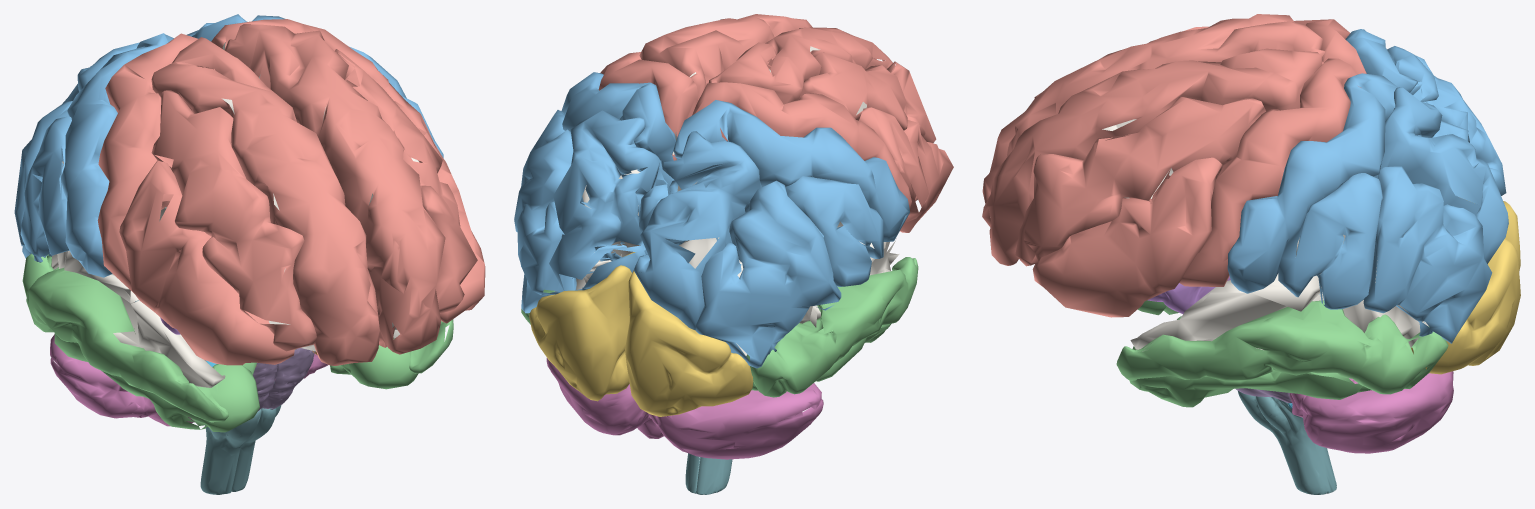
Rendered from brain-bp3d.glb.
3 views of the same model, side by side, from view 1: azimuth 30°, elevation 25°; view 2: azimuth 150°, elevation 25°; view 3: azimuth 270°, elevation 25° (orthographic). The views are drawn at different scales.
Parts seen in each view (by area): view 1: right_frontal_lobe, left_frontal_lobe, right_temporal_lobe, right_parietal_lobe, white_matter, cerebellum, medulla_oblongata, left_temporal_lobe, pons, left_parietal_lobe; view 2: right_parietal_lobe, left_parietal_lobe, right_frontal_lobe, cerebellum, right_occipital_lobe, right_temporal_lobe, left_frontal_lobe, left_occipital_lobe, white_matter, medulla_oblongata; view 3: left_frontal_lobe, left_parietal_lobe, left_temporal_lobe, right_frontal_lobe, cerebellum, white_matter, right_parietal_lobe, left_occipital_lobe, medulla_oblongata, left_insula.
Boxes of the visible parts, x1=… form: right_frontal_lobe: x1=97, y1=33, x2=379, y2=365; left_frontal_lobe: x1=211, y1=19, x2=485, y2=354; right_temporal_lobe: x1=22, y1=253, x2=259, y2=432; right_parietal_lobe: x1=14, y1=33, x2=173, y2=277; white_matter: x1=51, y1=42, x2=418, y2=387; cerebellum: x1=50, y1=334, x2=328, y2=426; medulla_oblongata: x1=200, y1=405, x2=281, y2=494; left_temporal_lobe: x1=330, y1=319, x2=453, y2=389; pons: x1=253, y1=348, x2=314, y2=411; left_parietal_lobe: x1=187, y1=14, x2=443, y2=157; right_parietal_lobe: x1=633, y1=100, x2=909, y2=368; left_parietal_lobe: x1=514, y1=72, x2=675, y2=313; right_frontal_lobe: x1=692, y1=27, x2=953, y2=232; cerebellum: x1=546, y1=358, x2=823, y2=459; right_occipital_lobe: x1=625, y1=270, x2=753, y2=416; right_temporal_lobe: x1=746, y1=257, x2=918, y2=397; left_frontal_lobe: x1=598, y1=14, x2=812, y2=160; left_occipital_lobe: x1=529, y1=252, x2=635, y2=401; white_matter: x1=555, y1=46, x2=899, y2=355; medulla_oblongata: x1=685, y1=453, x2=732, y2=494; left_frontal_lobe: x1=982, y1=48, x2=1360, y2=317; left_parietal_lobe: x1=1227, y1=73, x2=1508, y2=343; left_temporal_lobe: x1=1116, y1=300, x2=1448, y2=407; right_frontal_lobe: x1=982, y1=14, x2=1366, y2=203; cerebellum: x1=1289, y1=371, x2=1453, y2=453; white_matter: x1=1102, y1=119, x2=1459, y2=351; right_parietal_lobe: x1=1345, y1=29, x2=1506, y2=195; left_occipital_lobe: x1=1411, y1=238, x2=1520, y2=374; medulla_oblongata: x1=1238, y1=391, x2=1336, y2=494; left_insula: x1=1147, y1=276, x2=1230, y2=313.
Bounding box in the file's own units: 0.139 × 0.166 × 0.1803.
